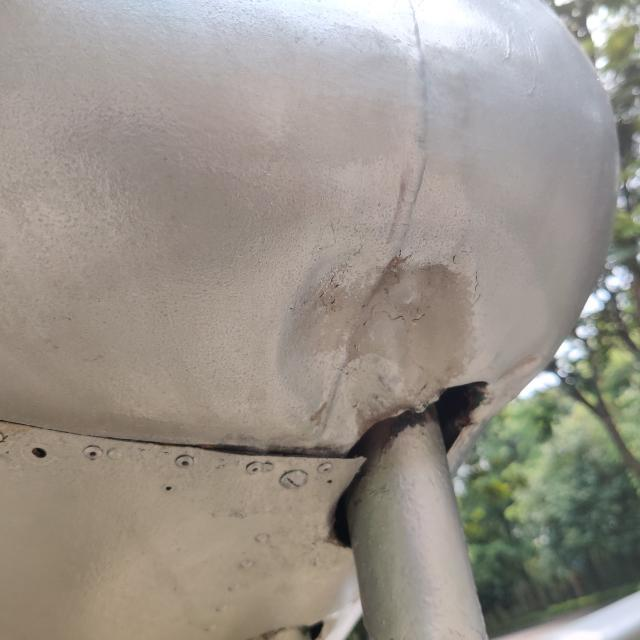dent: (252, 228, 498, 467), (478, 342, 552, 404)
